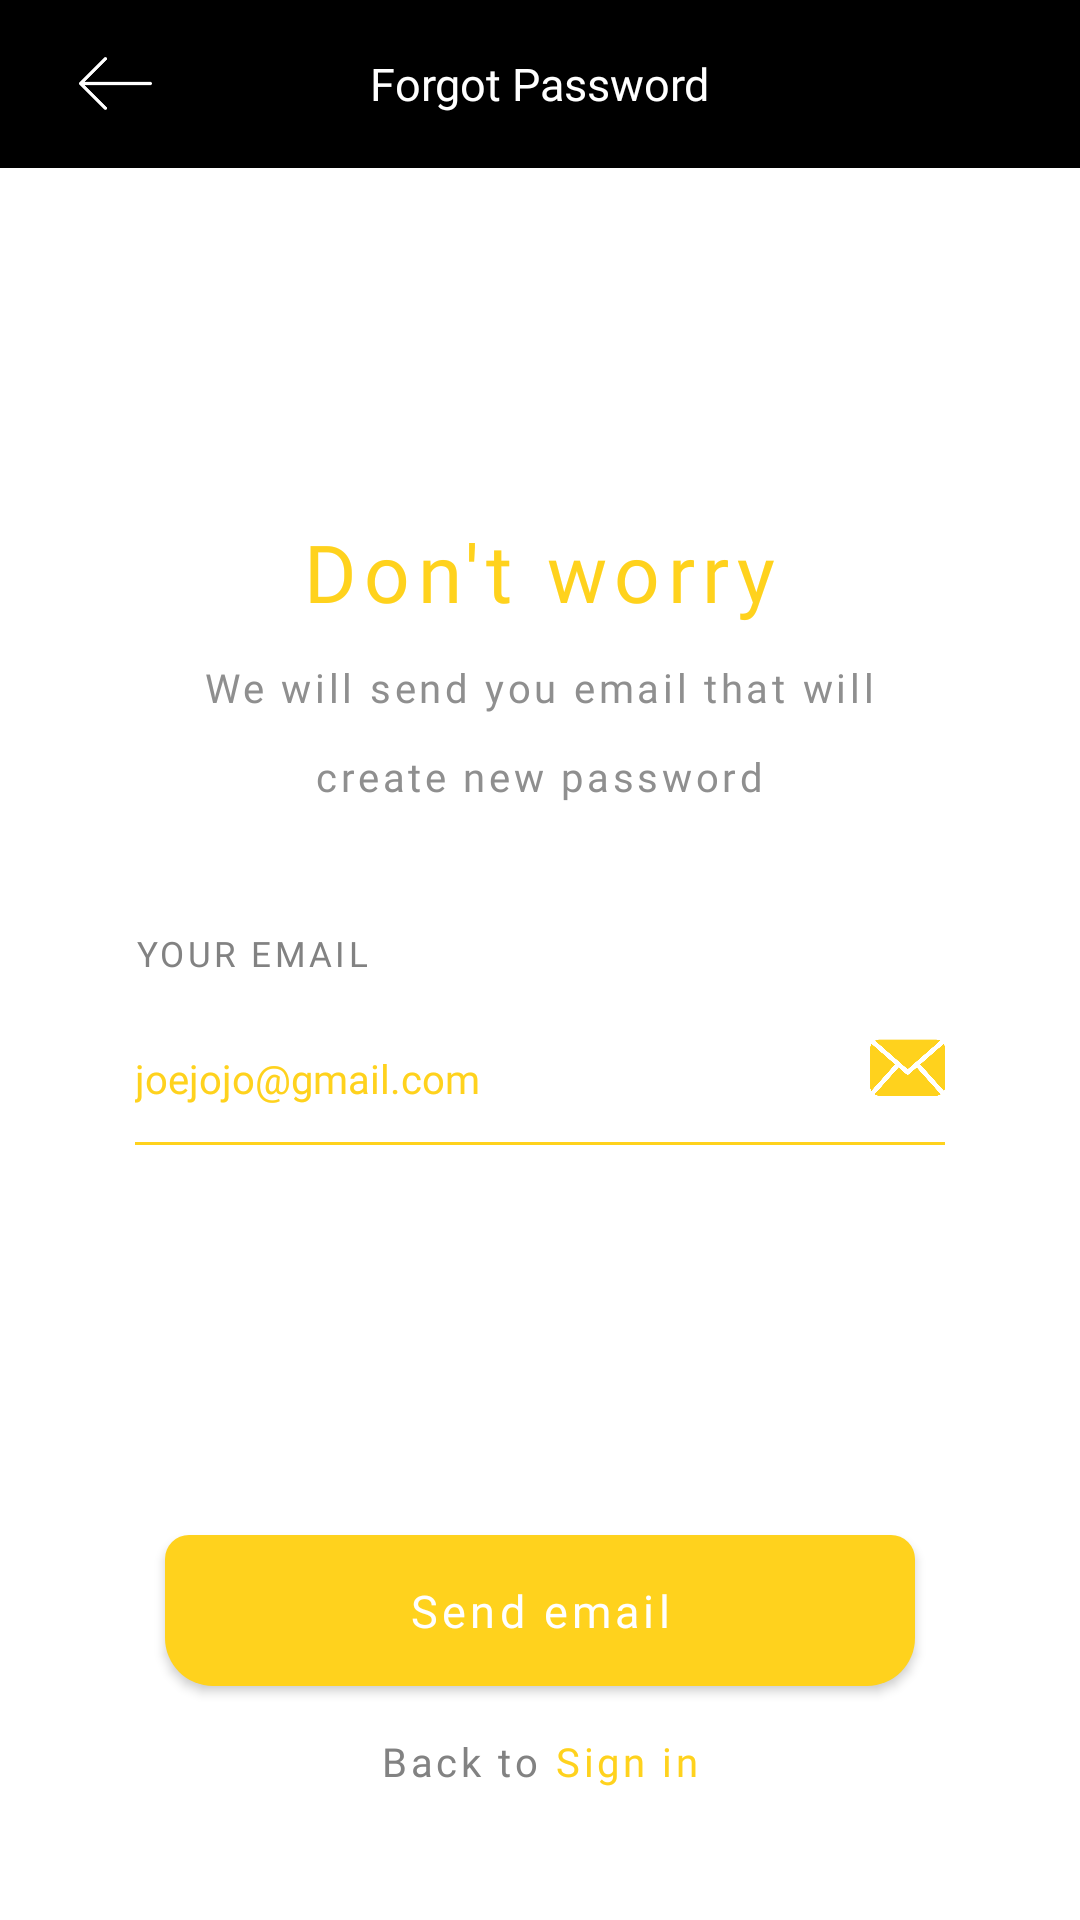

Locate icon controls on the screen. Image size 1080*1920, boxes as (x1, y1, x2, y2).
left arrow: (79, 57, 152, 110)
mail envelope symbol: (870, 1039, 945, 1096)
